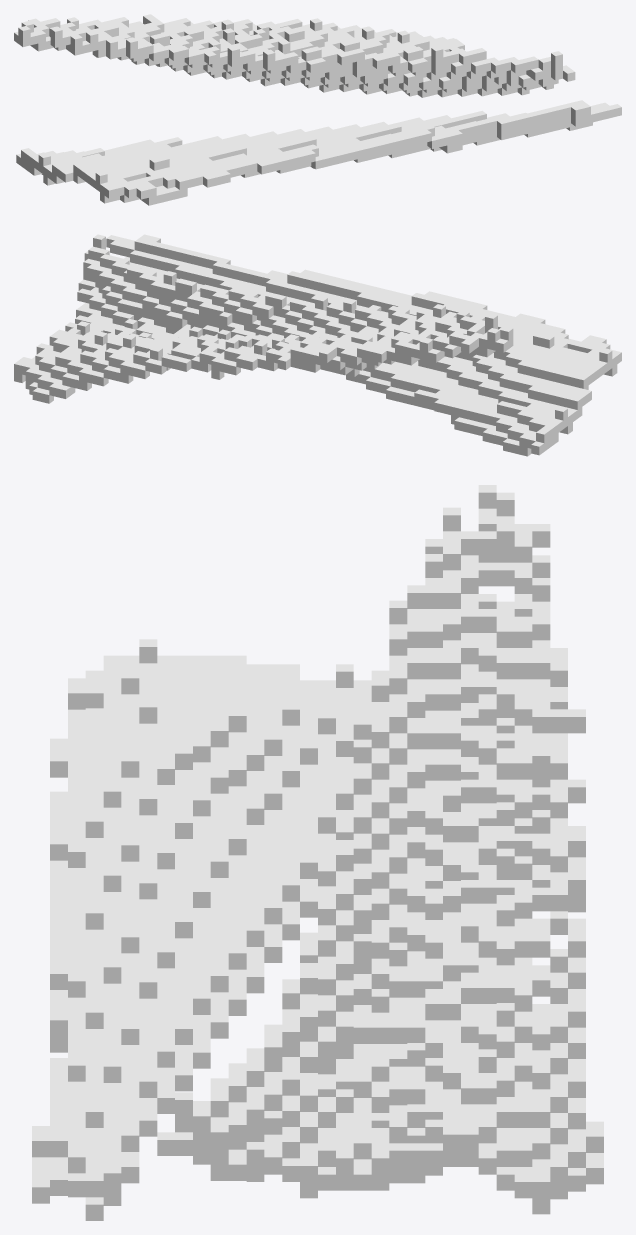
Rendered from sail.obj.
3 renders of one model, top to bottom at view 1: azimuth 30°, elevation 25°; view 2: azimuth 150°, elevation 25°; view 3: azimuth 270°, elevation 25°, orthographic. The views are drawn at different scales.
Bounding box in the file's own units: 6.5 × 1.8 × 3.2.
Materials: 1 (1 with a texture image).
